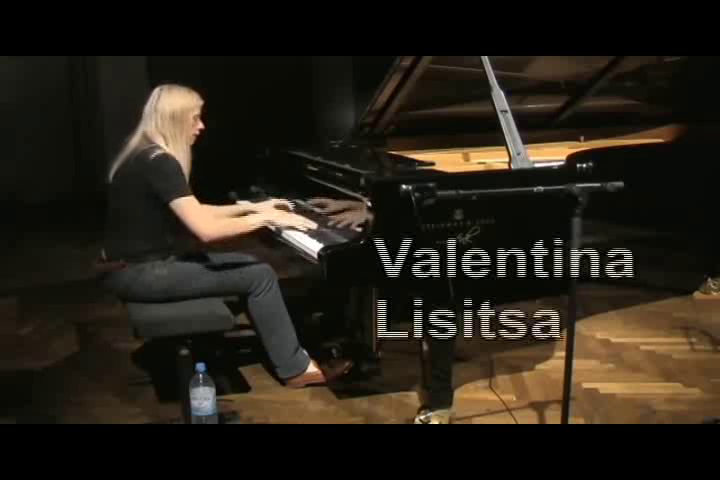keyboard: (226, 193, 358, 272)
